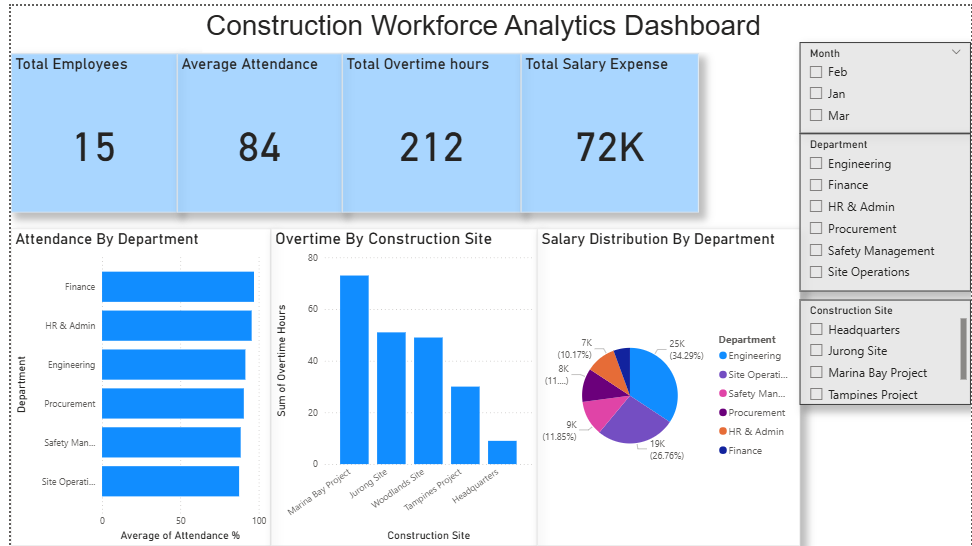

The dashboard page shown, as its layout file describes it:
{"tool":"powerbi","page":{"name":"Page 1","canvas":[1280,720],"ordinal":0},"visuals":[{"type":"card","title":"Total Employees","fields":{"Values":["CountNonNull(Sheet1.Employee ID)"]},"box":[0,63.3,221.7,211.7],"z":0},{"type":"card","title":"Average Attendance","fields":{"Values":["Min(Sheet1.Attendance %)"]},"box":[221.7,63.3,220,211.7],"z":1000},{"type":"card","title":"Total Overtime hours","fields":{"Values":["Sum(Sheet1.Overtime Hours)"]},"box":[441.7,63.3,238.3,211.7],"z":2000},{"type":"card","title":"Total Salary Expense","fields":{"Values":["Sum(Sheet1.Monthly Salary)"]},"box":[680,63.3,236.7,211.7],"z":3000},{"type":"clusteredBarChart","title":"Attendance By Department","fields":{"Category":["Sheet1.Department"],"Y":["Avg(Sheet1.Attendance %)"]},"box":[0,296.7,346.7,423.3],"z":4000},{"type":"clusteredColumnChart","title":"Overtime By Construction Site","fields":{"Category":["Sheet1.Construction Site"],"Y":["Sum(Sheet1.Overtime Hours)"]},"box":[346.7,296.7,355,423.3],"z":5000},{"type":"pieChart","title":"Salary Distribution By Department","fields":{"Category":["Sheet1.Department"],"Y":["Sum(Sheet1.Monthly Salary)"]},"box":[701.7,296.7,350,423.3],"z":6000},{"type":"slicer","fields":{"Values":["Sheet1.Month"]},"box":[1051.7,48.3,228.3,121.7],"z":7000},{"type":"slicer","fields":{"Values":["Sheet1.Department"]},"box":[1051.7,170,228.3,210],"z":8000},{"type":"slicer","fields":{"Values":["Sheet1.Construction Site"]},"box":[1051.7,391.7,228.3,140],"z":9000},{"type":"textbox","box":[255,0,766.7,61.7],"z":10000}]}

Visuals, with their boxes in screenshot pixels (x1, y1, x2, y2), scaled from the page's 1280x720 canvas onto the 972x546 screenshot:
"Total Employees" card: [0,48,168,209]
"Average Attendance" card: [168,48,335,209]
"Total Overtime hours" card: [335,48,516,209]
"Total Salary Expense" card: [516,48,696,209]
"Attendance By Department" clusteredBarChart: [0,225,263,545]
"Overtime By Construction Site" clusteredColumnChart: [263,225,533,545]
"Salary Distribution By Department" pieChart: [533,225,799,545]
slicer - Sheet1.Month: [799,37,971,129]
slicer - Sheet1.Department: [799,129,971,288]
slicer - Sheet1.Construction Site: [799,297,971,403]
textbox: [194,0,776,47]
